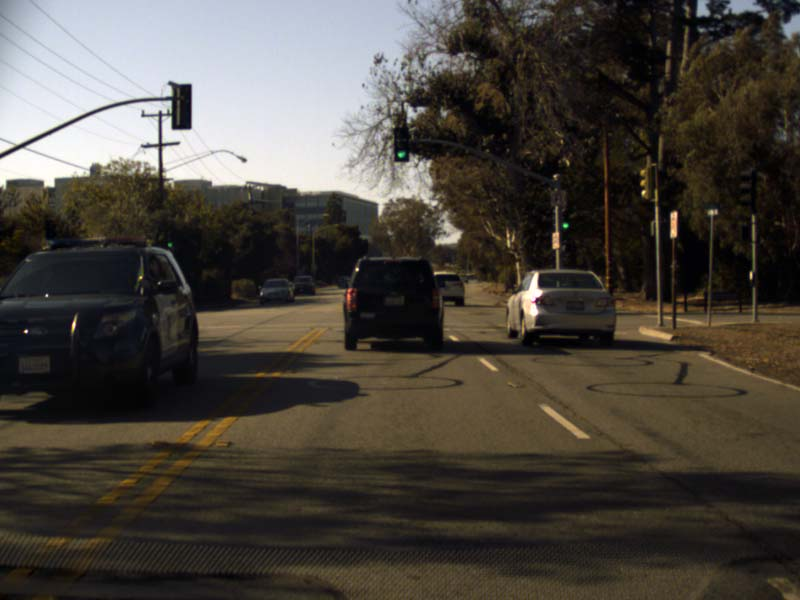Green: (394, 128, 407, 160), (561, 213, 568, 229), (167, 231, 173, 248)
